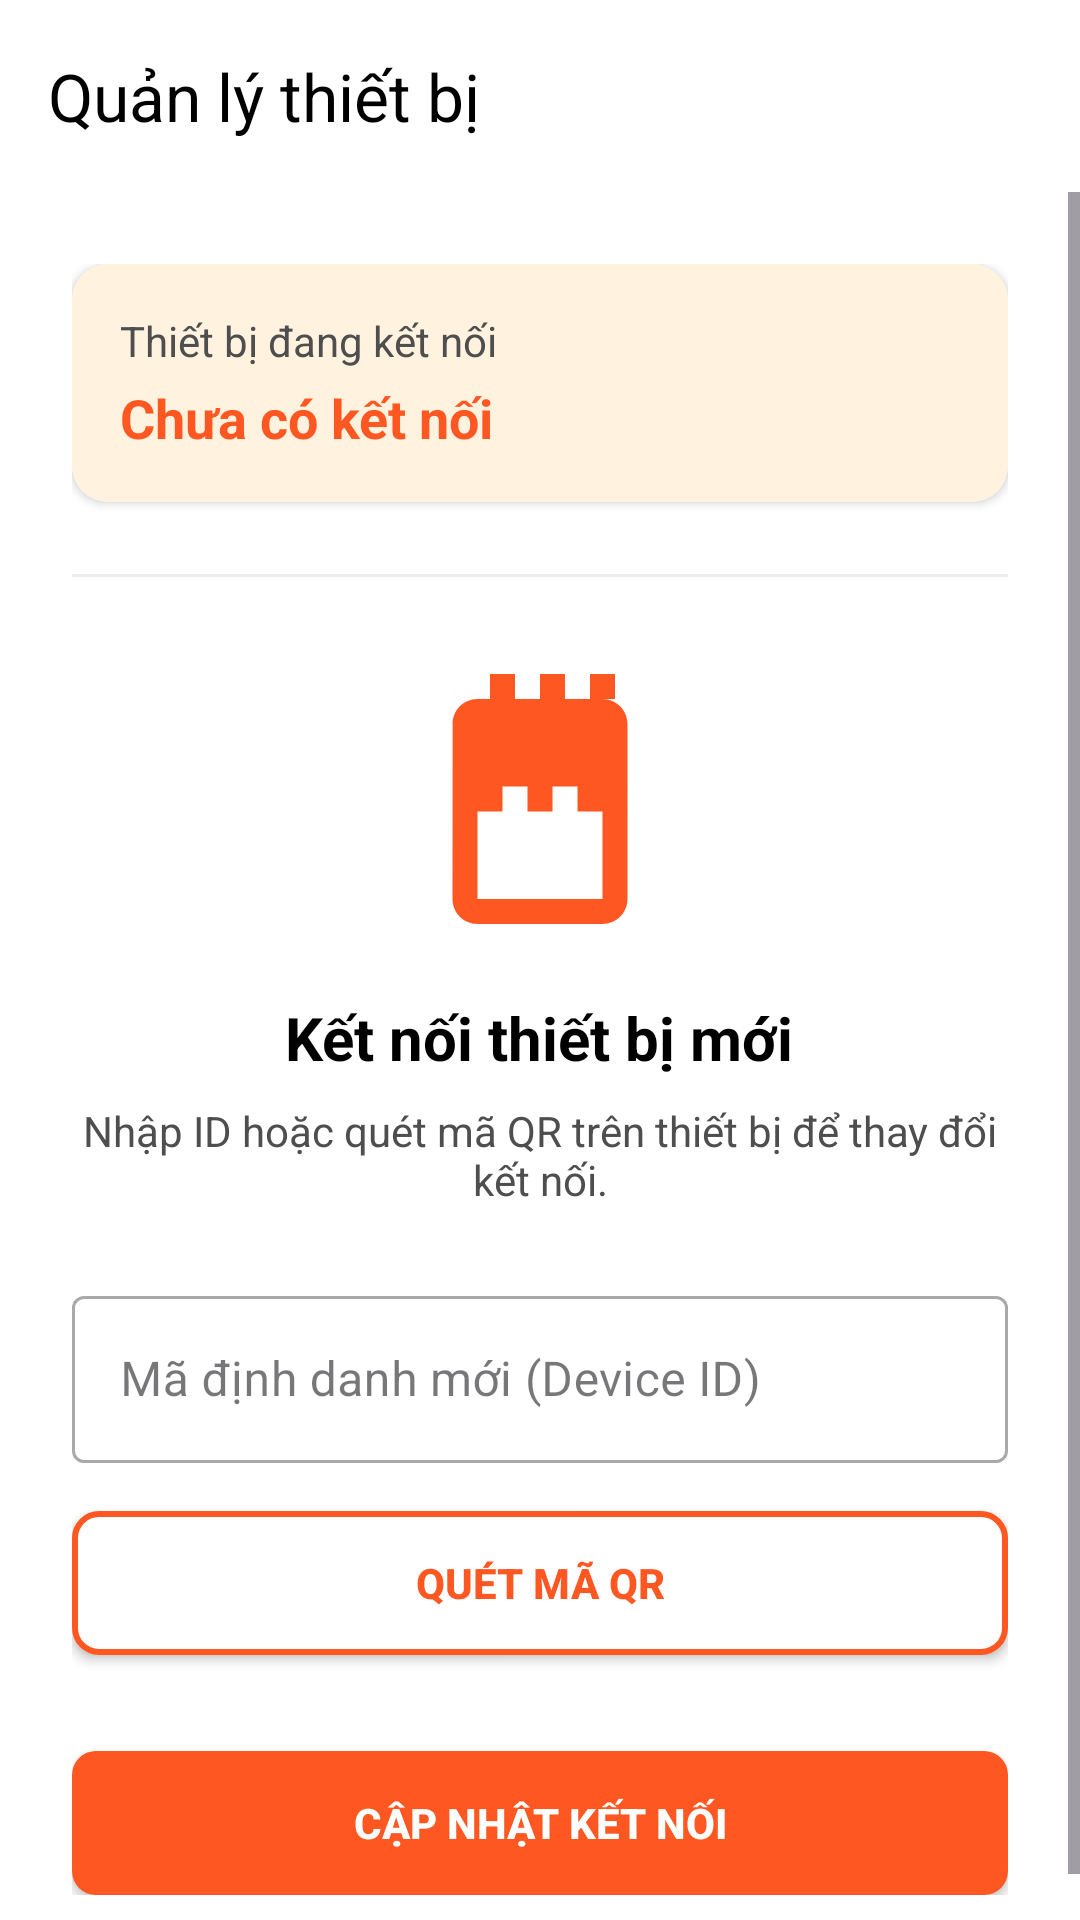

Where to tap for icons on this 1080 x 1920 app screen, as point (x, y):
devices: point (540, 799)
